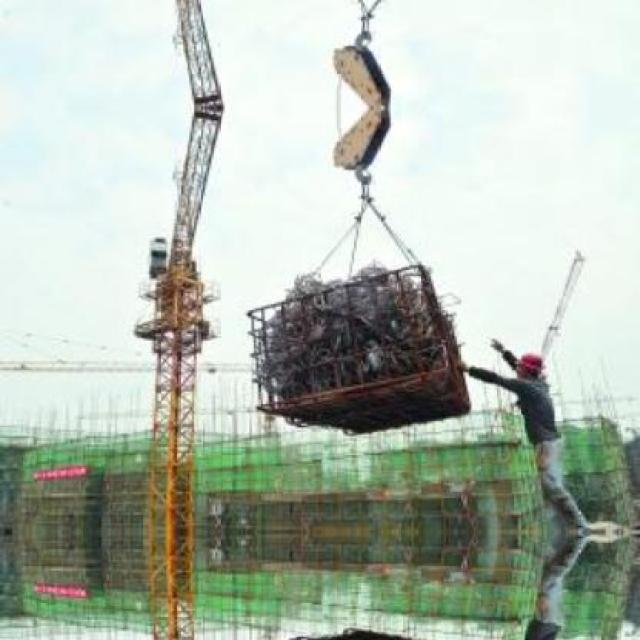helmet: (511, 350, 547, 386)
